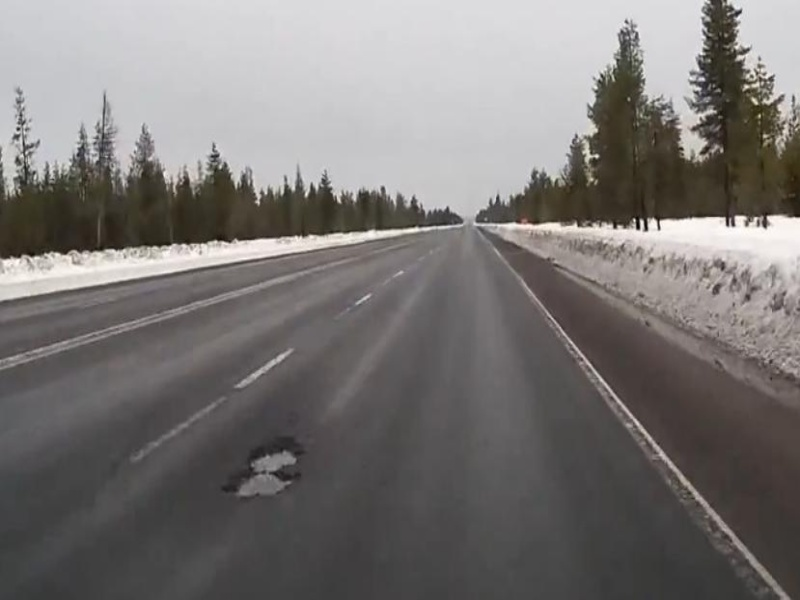pothole: (215, 433, 310, 504)
